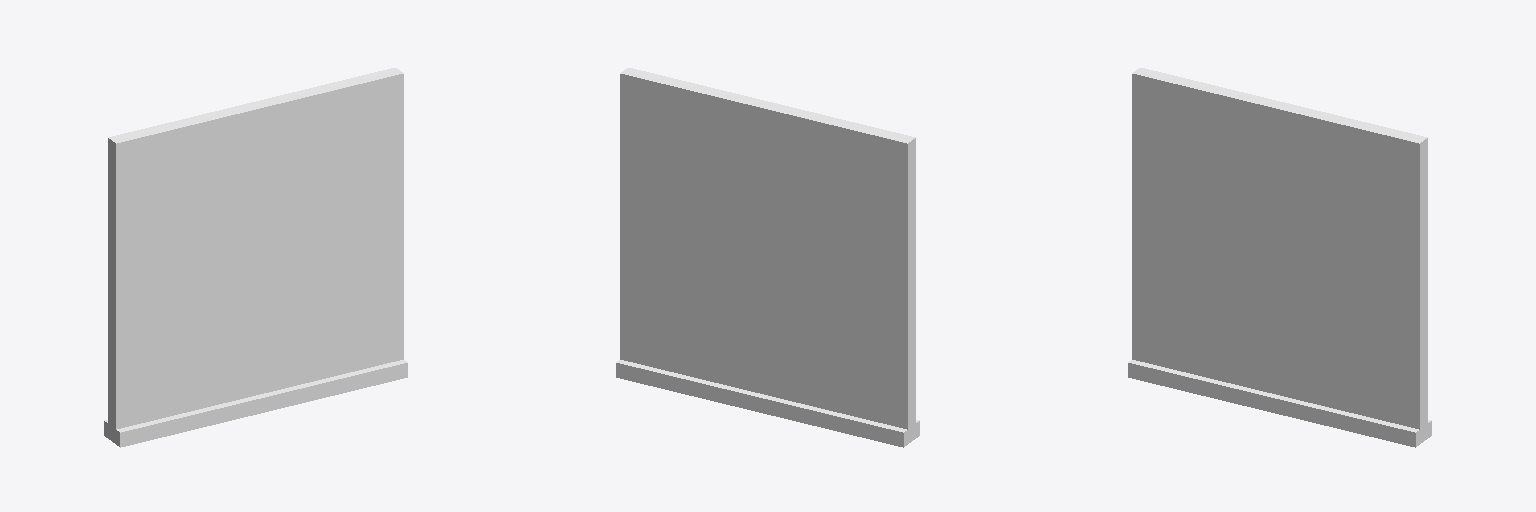
Rendered from Wall01.obj.
3 views of the same model, side by side, from view 1: azimuth 30°, elevation 25°; view 2: azimuth 150°, elevation 25°; view 3: azimuth 330°, elevation 25° (orthographic).
Parts seen in each view (by area): view 1: object 1; view 2: object 1; view 3: object 1.
Boxes of the visible parts, x1=… form: object 1: x1=104, y1=67, x2=407, y2=447; object 1: x1=616, y1=67, x2=919, y2=447; object 1: x1=1128, y1=67, x2=1431, y2=447.
Size of the model in its own units: 4 by 4 by 0.4.